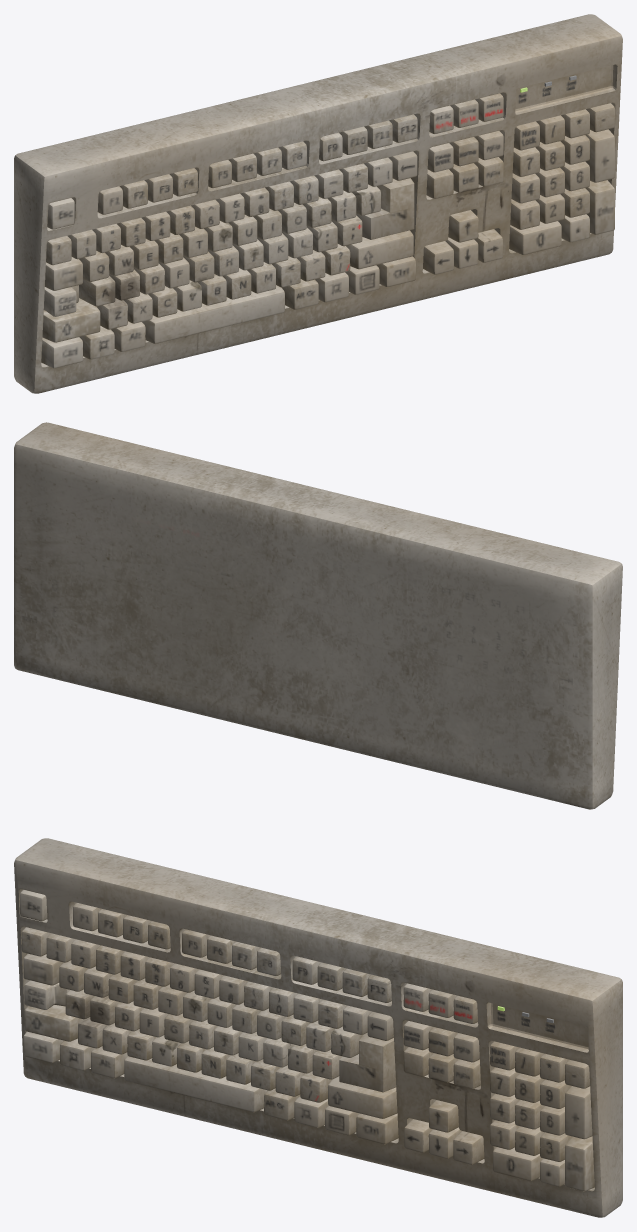
The model's file is keyboard.glb.
3 renders of one model, top to bottom at view 1: azimuth 30°, elevation 25°; view 2: azimuth 150°, elevation 25°; view 3: azimuth 330°, elevation 25°, orthographic.
Visible parts, largest first — view 1: Cube, Cube.020, Cube.021, Cube.023, Cube.022, Cube.033, Cube.016, Cube.010, Cube.012, Cube.011, Cube.043, Cube.036 (+23 smaller); view 2: Cube; view 3: Cube, Cube.020, Cube.021, Cube.023, Cube.022, Cube.033, Cube.016, Cube.012, Cube.011, Cube.036, Cube.010, Cube.043 (+23 smaller).
Part boxes in pixels (box(x1,y1,x2,y2)): Cube: box(14, 14, 622, 393); Cube.020: box(46, 151, 417, 265); Cube.021: box(79, 184, 380, 281); Cube.023: box(79, 215, 362, 306); Cube.022: box(97, 244, 350, 329); Cube.033: box(142, 285, 284, 343); Cube.016: box(514, 103, 614, 150); Cube.010: box(97, 168, 197, 214); Cube.012: box(319, 114, 417, 161); Cube.011: box(208, 141, 306, 188); Cube.043: box(423, 229, 502, 274); Cube.036: box(356, 178, 414, 239); Cube: box(14, 422, 622, 809); Cube: box(14, 838, 622, 1217); Cube.020: box(21, 927, 393, 1040); Cube.021: box(59, 960, 362, 1057); Cube.023: box(65, 989, 341, 1079); Cube.022: box(78, 1017, 331, 1102); Cube.033: box(124, 1056, 267, 1112); Cube.016: box(490, 1041, 589, 1088); Cube.012: box(292, 956, 391, 1002); Cube.011: box(182, 929, 280, 975); Cube.036: box(339, 1032, 396, 1092); Cube.010: box(73, 902, 170, 949); Cube.043: box(404, 1119, 484, 1164).
Bounding box in the file's own units: 5.41 × 2.03 × 0.5262.
1 material, 1 textured.
